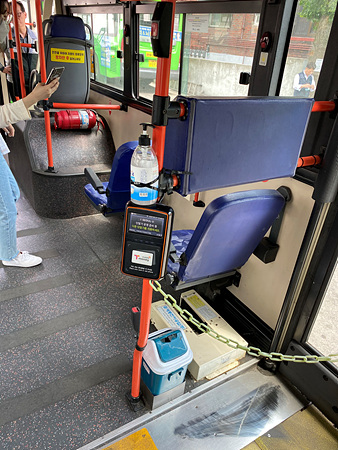terminal: (126, 204, 163, 280)
